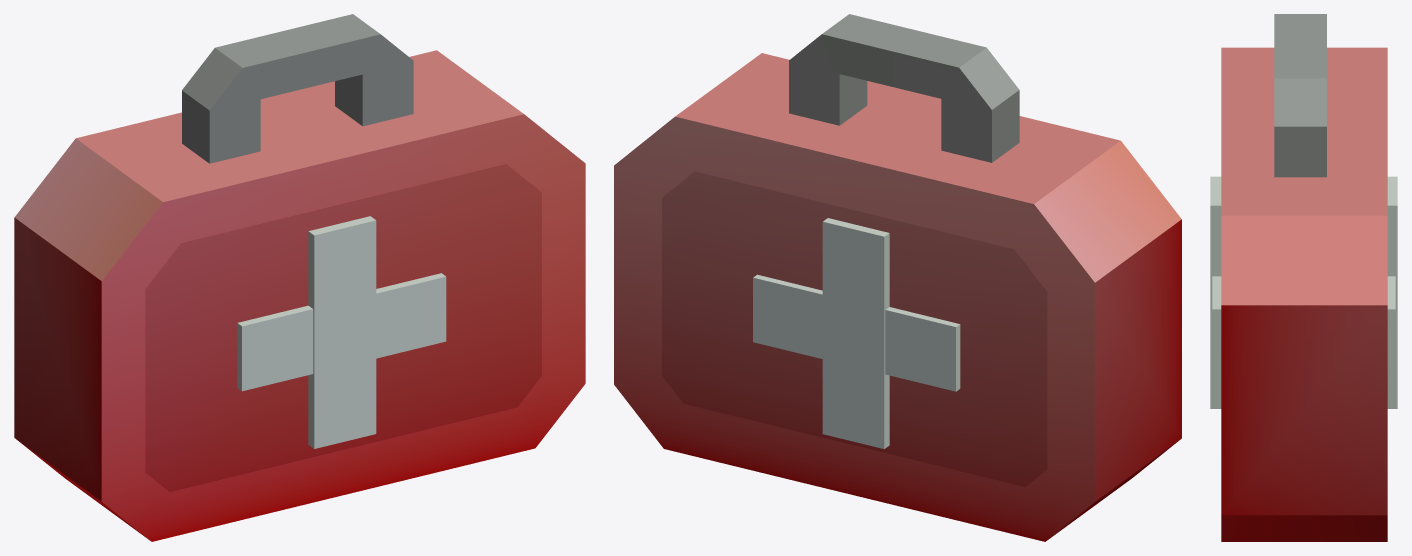
Rendered from colect_aid.glb.
3 renders of one model, left to right at view 1: azimuth 30°, elevation 25°; view 2: azimuth 150°, elevation 25°; view 3: azimuth 270°, elevation 25°, orthographic. The views are drawn at different scales.
Visible parts, largest first — view 1: colect_aid; view 2: colect_aid; view 3: colect_aid.
Boxes of the visible parts, x1,y1,x2,y2 form: colect_aid: [14, 14, 585, 541]; colect_aid: [614, 14, 1181, 541]; colect_aid: [1210, 14, 1397, 541].
Size of the model in its own units: 0.306 by 0.2568 by 0.1078.
